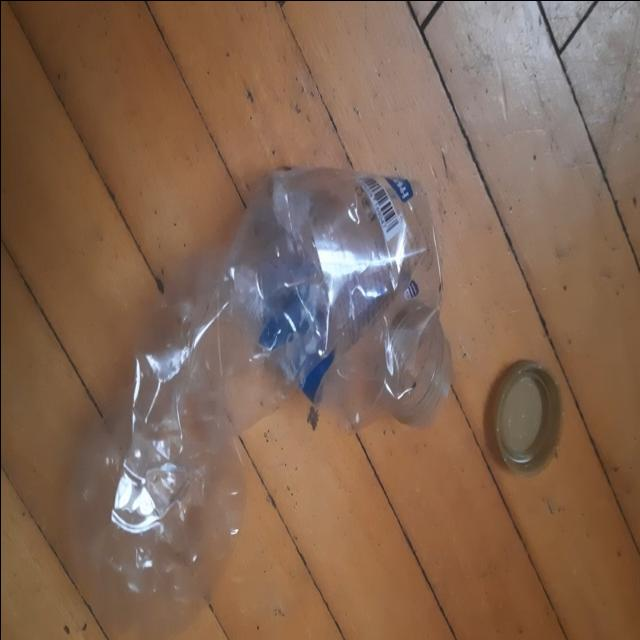Plastic: (84, 165, 446, 632)
